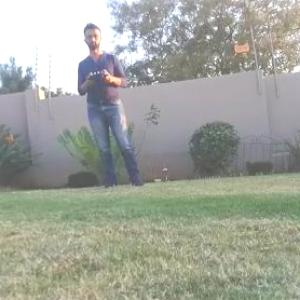follow: (73, 16, 151, 190)
